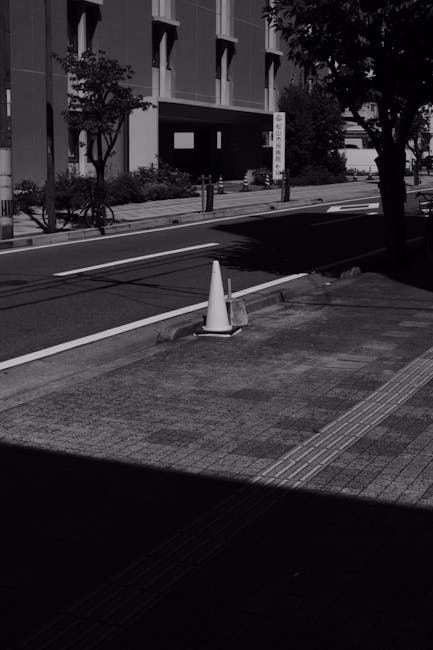traffic_cone: (192, 259, 242, 338), (224, 277, 249, 327), (217, 174, 224, 194)
